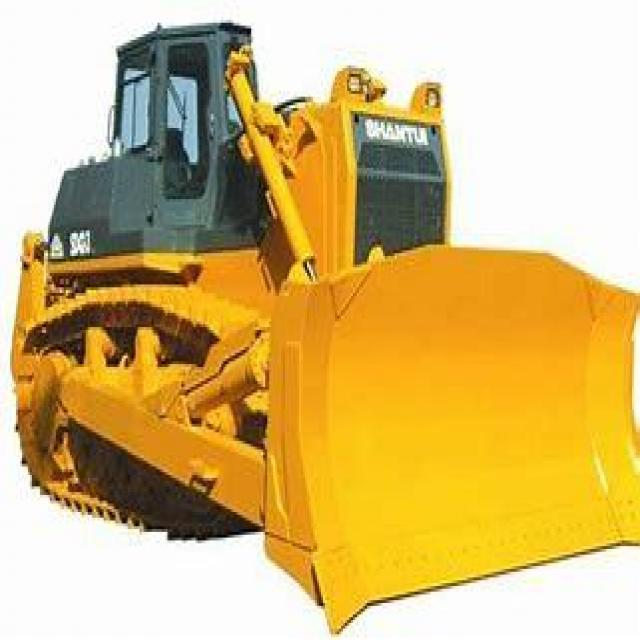Bulldozer: (12, 17, 638, 620)
